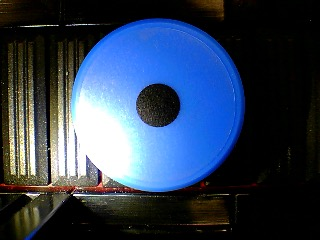BOHO: (70, 18, 246, 192)
